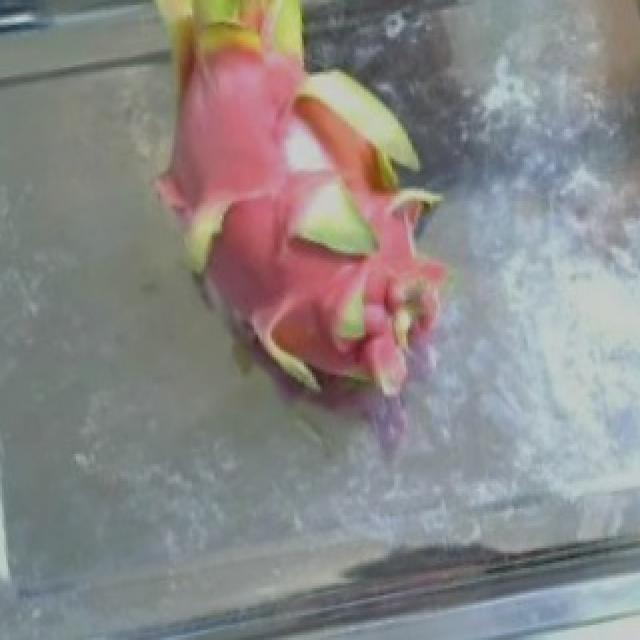fruit: (84, 3, 502, 434)
